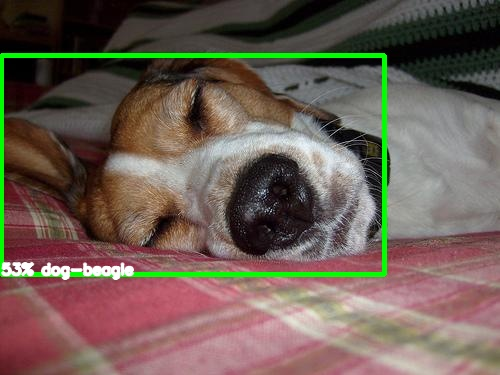dog-beagle: (1, 54, 376, 261)
